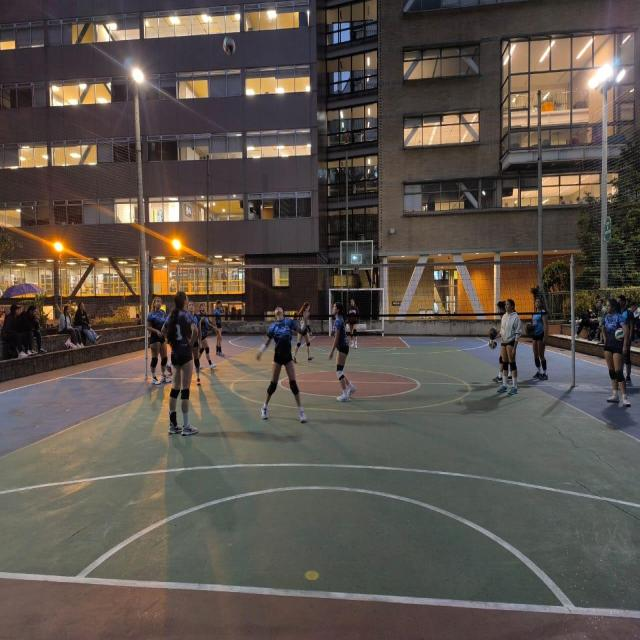volleyball: (223, 37, 235, 55), (615, 328, 624, 341), (488, 326, 497, 338), (525, 322, 533, 333), (489, 339, 497, 349)
